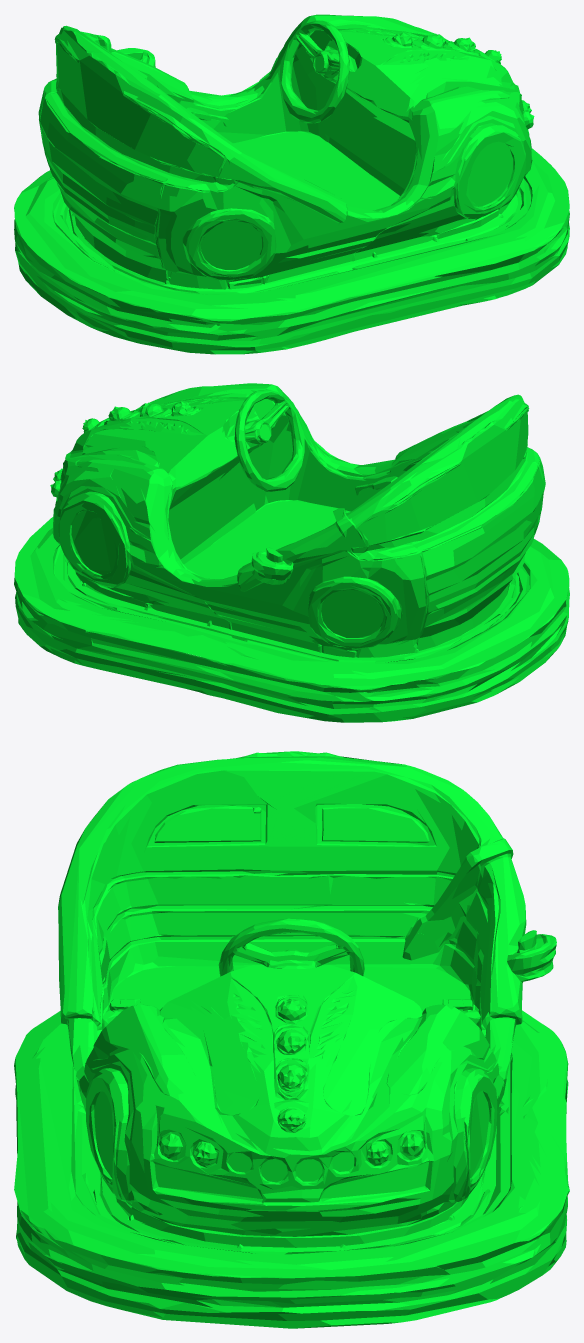
File: park_bumperCar.glb
The picture shows the model from 3 angles, top to bottom: view 1: azimuth 30°, elevation 25°; view 2: azimuth 150°, elevation 25°; view 3: azimuth 270°, elevation 25°; orthographic projection. The views are drawn at different scales.
Parts seen in each view (by area): view 1: park_bumperCar; view 2: park_bumperCar; view 3: park_bumperCar.
Boxes of the visible parts, x1,y1,x2,y2 form: park_bumperCar: (14,14,569,354); park_bumperCar: (14,383,569,722); park_bumperCar: (14,751,569,1328).
Bounding box in the file's own units: 0.6815 × 0.3104 × 0.5167.
